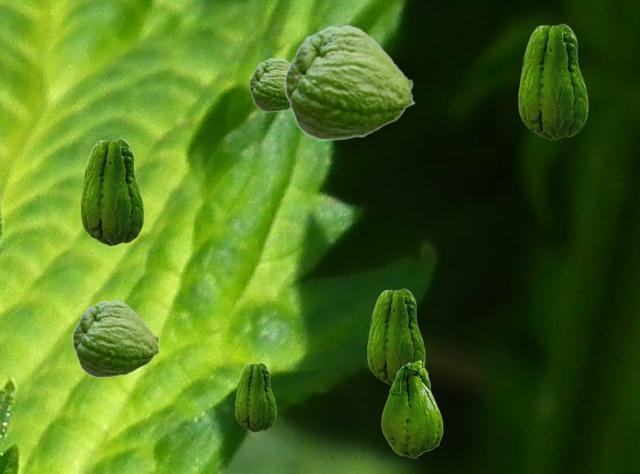sayote: (284, 24, 415, 140), (518, 23, 587, 139), (72, 299, 160, 377), (80, 138, 143, 245), (381, 360, 442, 457), (367, 288, 424, 385), (235, 362, 275, 431), (249, 57, 289, 111)
